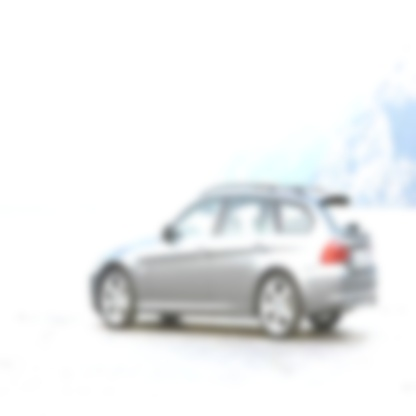Vehicle: (90, 183, 381, 342)
